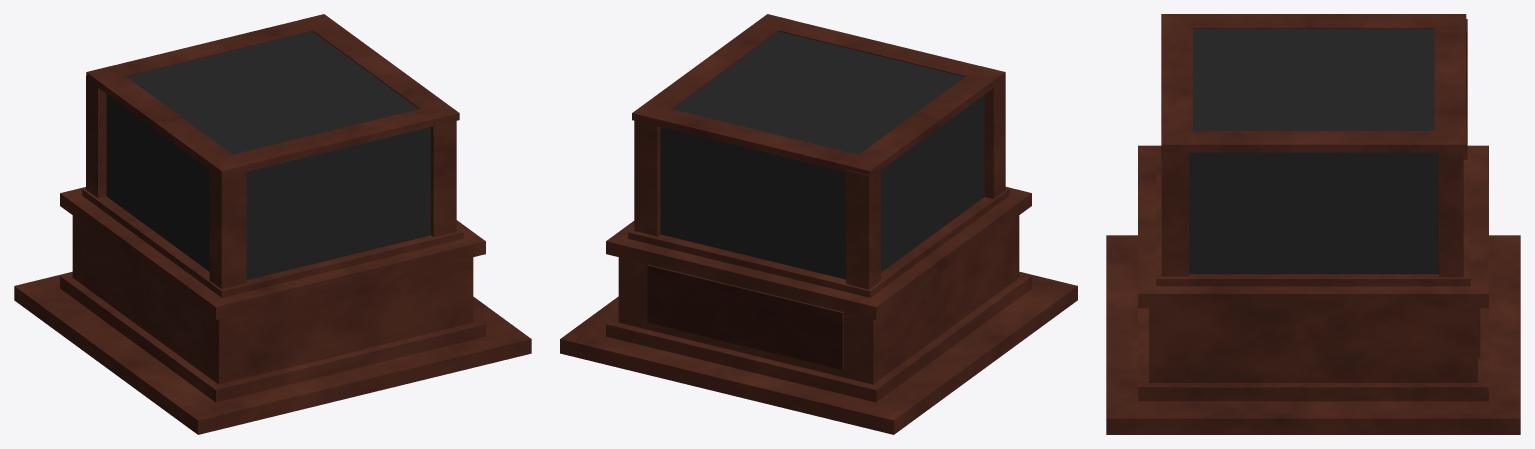
The model's file is displaycase_V5_TEMP.001.glb.
The picture shows the model from 3 angles, left to right: view 1: azimuth 30°, elevation 25°; view 2: azimuth 150°, elevation 25°; view 3: azimuth 270°, elevation 25°; orthographic projection. The views are drawn at different scales.
Visible parts, largest first — view 1: displaycase_V5_TEMP.001_V51_TEMP; view 2: displaycase_V5_TEMP.001_V51_TEMP; view 3: displaycase_V5_TEMP.001_V51_TEMP.
Boxes of the visible parts, x1=… form: displaycase_V5_TEMP.001_V51_TEMP: x1=14, y1=14, x2=531, y2=434; displaycase_V5_TEMP.001_V51_TEMP: x1=560, y1=14, x2=1077, y2=434; displaycase_V5_TEMP.001_V51_TEMP: x1=1106, y1=14, x2=1520, y2=434.
Size of the model in its own units: 12.09 by 8.12 by 11.54.
Materials: 1 (1 with a texture image).
